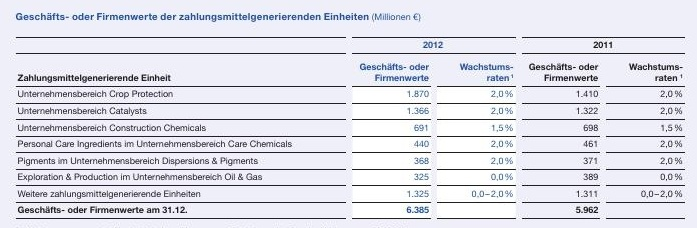table: (0, 0, 697, 228)
